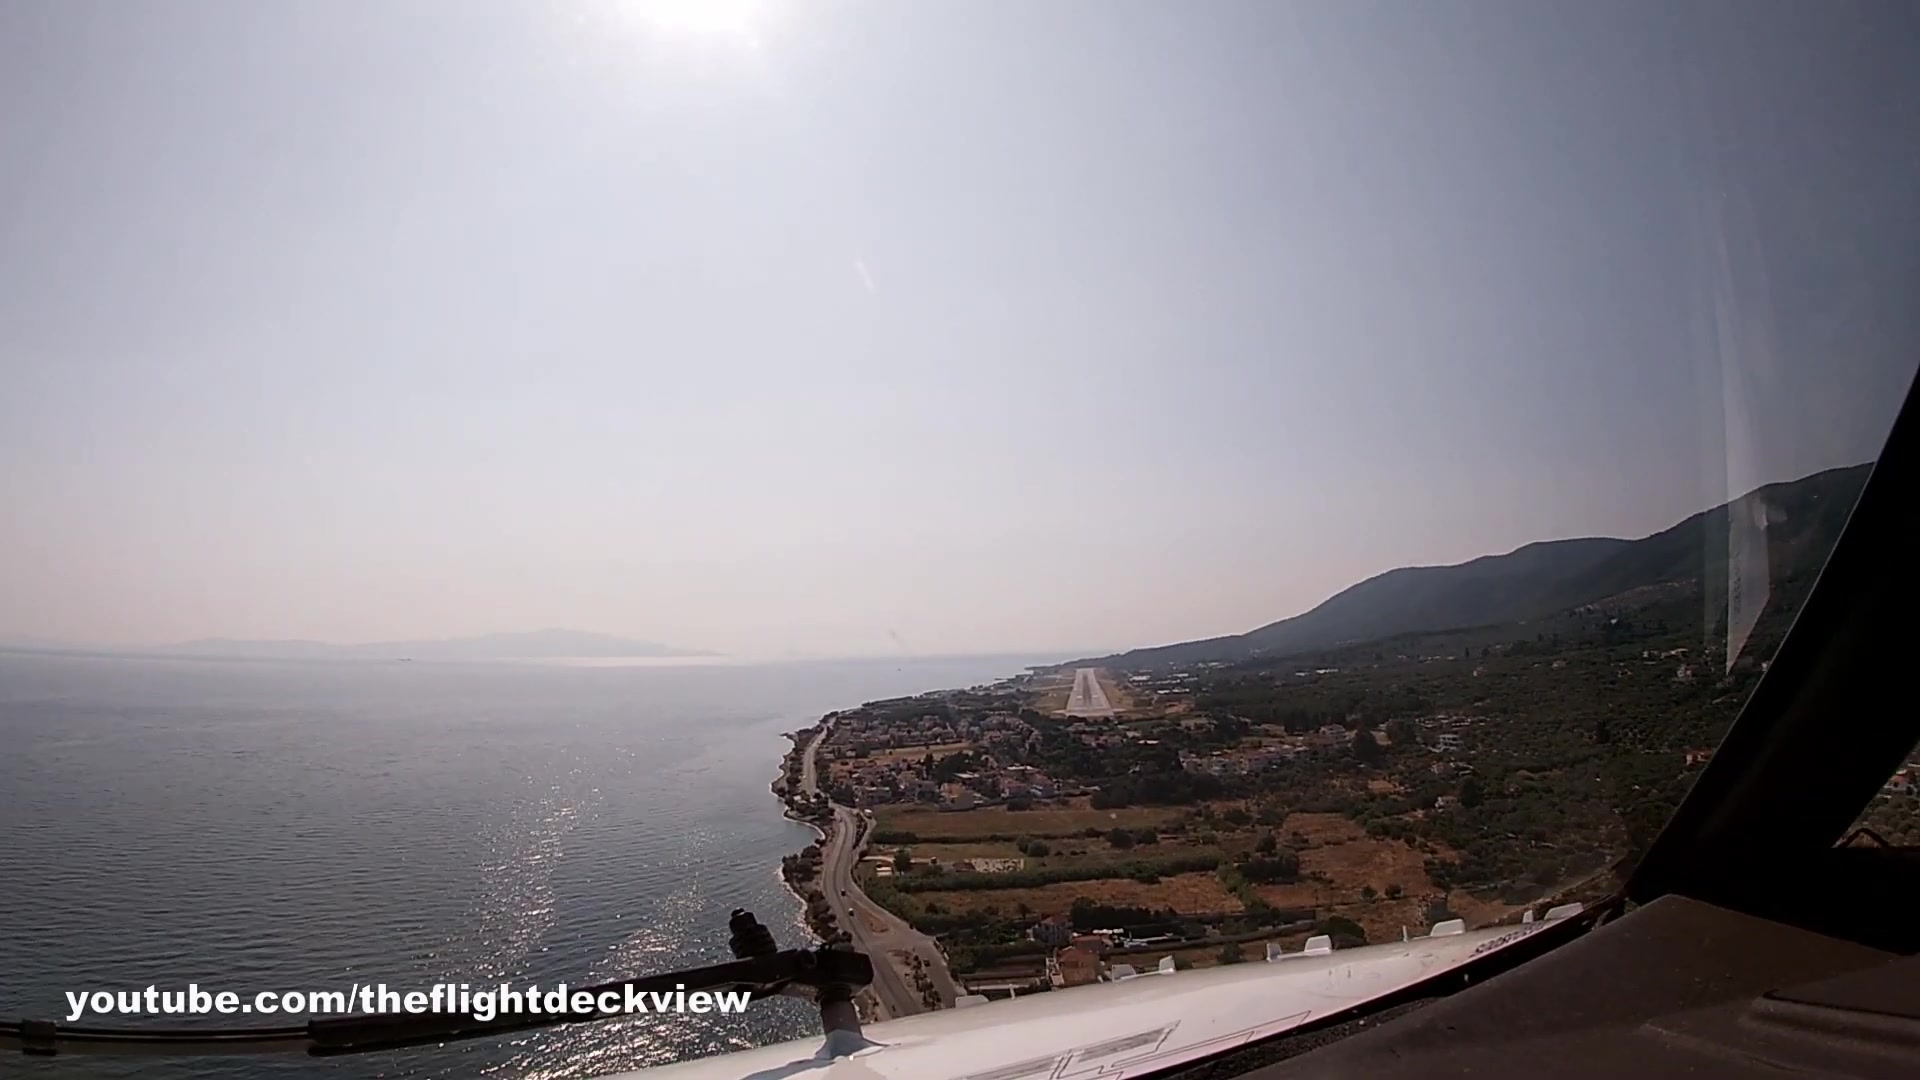runway: (1062, 667, 1113, 716)
